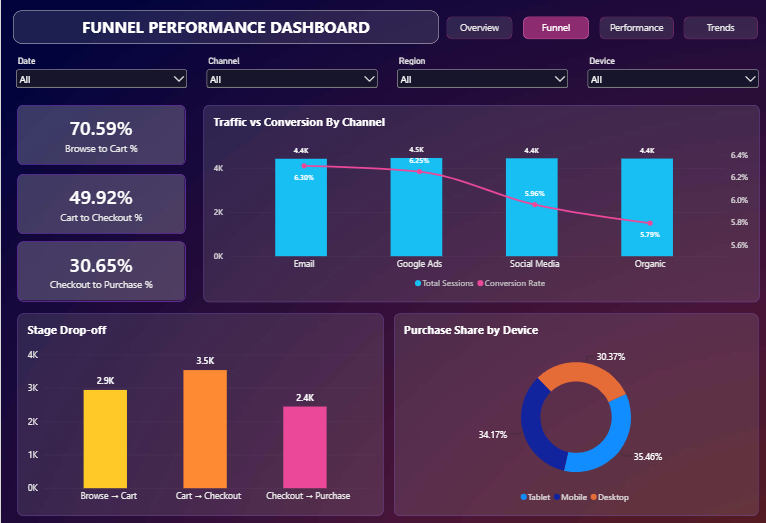

What the dashboard file says about the page in this screenshot:
{"tool":"powerbi","page":{"name":"Funnel Analysis","canvas":[1280,950],"ordinal":1},"visuals":[{"type":"actionButton","box":[743.7,27.5,110,38],"z":0},{"type":"actionButton","box":[870.5,27.5,110,38],"z":1000},{"type":"actionButton","box":[997.3,27.4,124.1,38.2],"z":2000},{"type":"actionButton","box":[1138.2,27.5,124.1,38.2],"z":3000},{"type":"cardVisual","fields":{"Data":["_Measures.Browse to Cart %"]},"box":[26.7,175,280,100],"z":4000},{"type":"textbox","box":[20,18.3,710,55],"z":5000},{"type":"slicer","fields":{"Values":["funnel_analysis_data.Date"]},"box":[20,93.6,295,55],"z":6000},{"type":"slicer","fields":{"Values":["funnel_analysis_data.Channel"]},"box":[337.2,93.6,295,55],"z":7000},{"type":"slicer","fields":{"Values":["funnel_analysis_data.Region"]},"box":[654.4,93.6,295,55],"z":8000},{"type":"slicer","fields":{"Values":["funnel_analysis_data.Device"]},"box":[971.7,93.6,295,55],"z":9000},{"type":"cardVisual","fields":{"Data":["_Measures.Cart to Checkout %"]},"box":[26.7,289.2,280,100],"z":10000},{"type":"cardVisual","fields":{"Data":["_Measures.Checkout to Purchase %"]},"box":[26.7,403.3,280,100],"z":11000},{"type":"clusteredColumnChart","title":"Stage Drop-off ","fields":{"Category":["Dropoff Stages.Stage"],"Y":["_Measures.Stage Dropoff Value"]},"box":[27.5,522.5,610,337.5],"z":12000},{"type":"donutChart","title":"Purchase Share by Device","fields":{"Category":["funnel_analysis_data.Device"],"Y":["_Measures.Purchase Sessions"]},"box":[655,522.5,607.5,337.5],"z":13000},{"type":"lineClusteredColumnComboChart","title":"Traffic vs Conversion By Channel","fields":{"Category":["funnel_analysis_data.Channel"],"Y":["_Measures.Total Sessions"],"Y2":["_Measures.Conversion Rate"]},"box":[336.7,175,926.7,328.3],"z":14000}]}

Visuals, with their boxes on the page's 1280x950 design canvas (x1, y1, x2, y2). These are canvas units, not pixel positions in the 766x523 screenshot, which may show the page scaled, cropped or inside an application window:
actionButton: bbox=(744, 28, 854, 66)
actionButton: bbox=(870, 28, 980, 66)
actionButton: bbox=(997, 27, 1121, 66)
actionButton: bbox=(1138, 28, 1262, 66)
cardVisual - _Measures.Browse to Cart %: bbox=(27, 175, 307, 275)
textbox: bbox=(20, 18, 730, 73)
slicer - funnel_analysis_data.Date: bbox=(20, 94, 315, 149)
slicer - funnel_analysis_data.Channel: bbox=(337, 94, 632, 149)
slicer - funnel_analysis_data.Region: bbox=(654, 94, 949, 149)
slicer - funnel_analysis_data.Device: bbox=(972, 94, 1267, 149)
cardVisual - _Measures.Cart to Checkout %: bbox=(27, 289, 307, 389)
cardVisual - _Measures.Checkout to Purchase %: bbox=(27, 403, 307, 503)
"Stage Drop-off " clusteredColumnChart: bbox=(28, 522, 638, 860)
"Purchase Share by Device" donutChart: bbox=(655, 522, 1262, 860)
"Traffic vs Conversion By Channel" lineClusteredColumnComboChart: bbox=(337, 175, 1263, 503)
